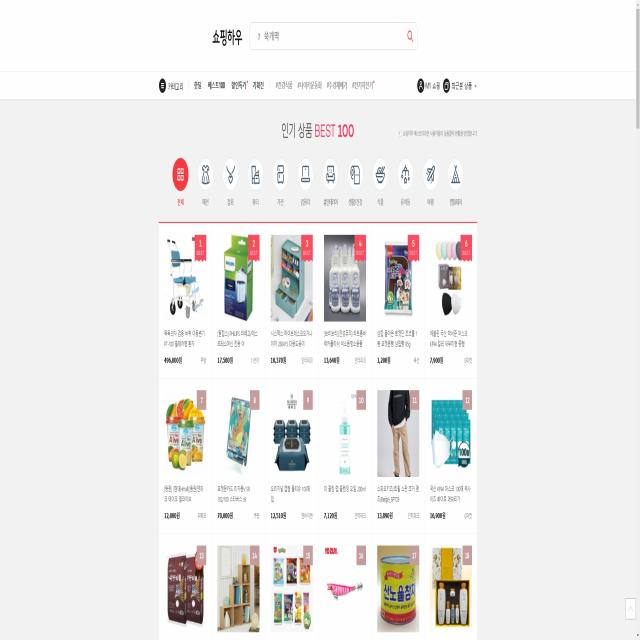menu-bar: (412, 73, 479, 95)
search: (248, 20, 421, 56)
tab-bar: (170, 154, 466, 213), (157, 74, 377, 95)
